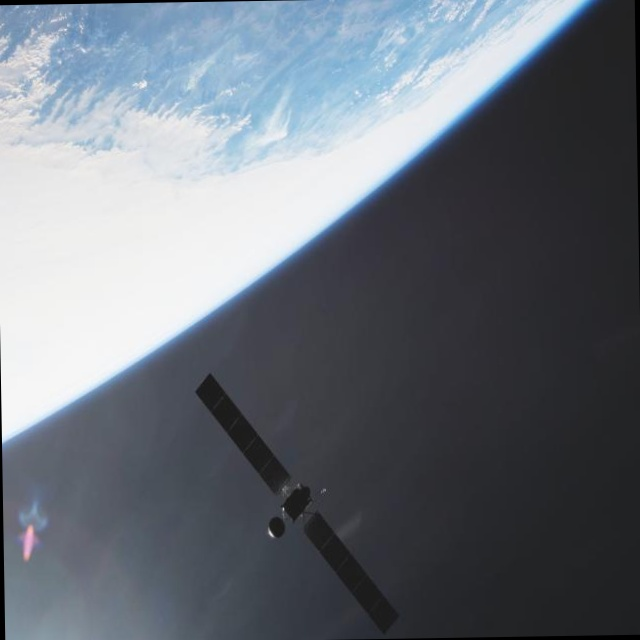satellite: (188, 359, 403, 640)
